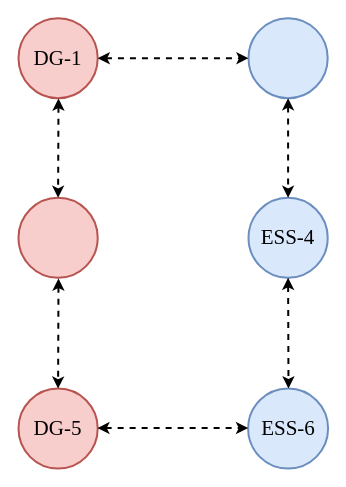
Image size: 346x487. Some labels were removed from this diagram. Each missing label, with the centre of its shape:
"DG-3" belongs at point 57,237.
"ESS-2" belongs at point 287,58.
